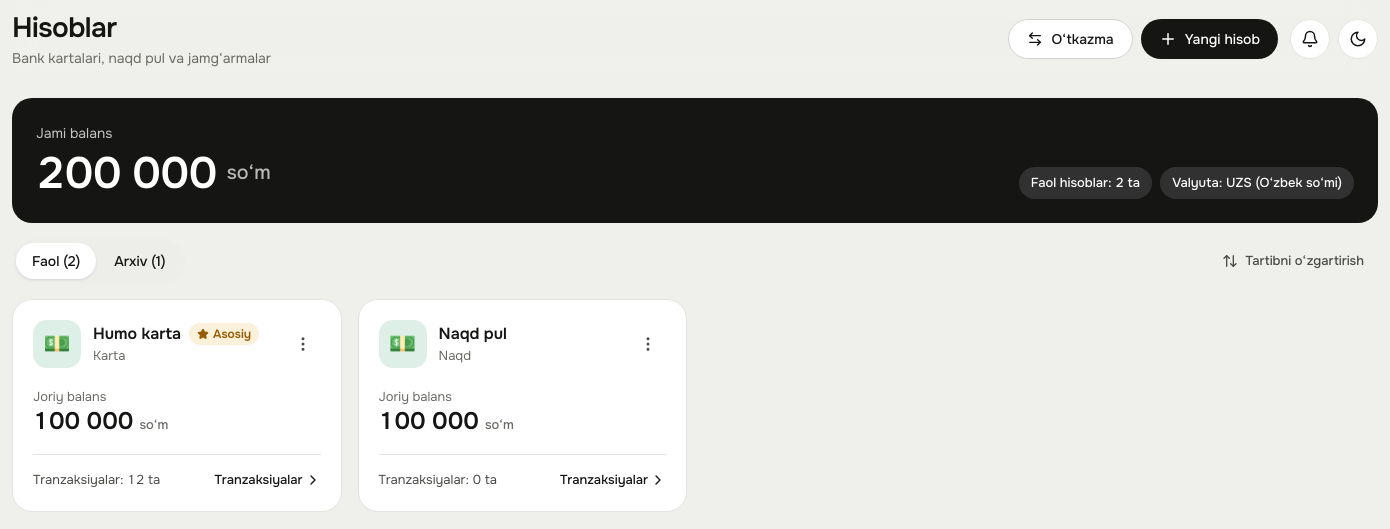
Test: AccountsPage › splits active and archived accounts and shows the total
Expected: the text "Humo karta" is shown, [93,323,181,345]
Expected: the tab "Faol (2)" is shown, [16,243,96,279]
Click the tab "Arxiv (1)": (140, 261) [98,243,181,279]
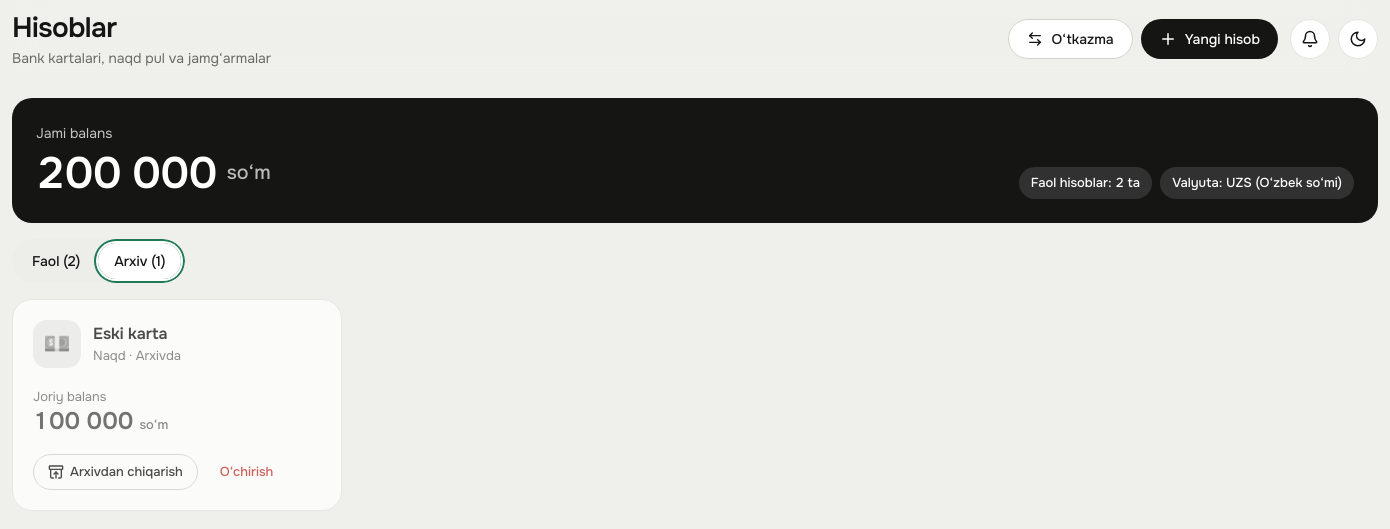
Expected: the text "Eski karta" is shown, [93,323,168,345]
Expected: the button "Arxivdan chiqarish" is shown, [33,454,198,490]
